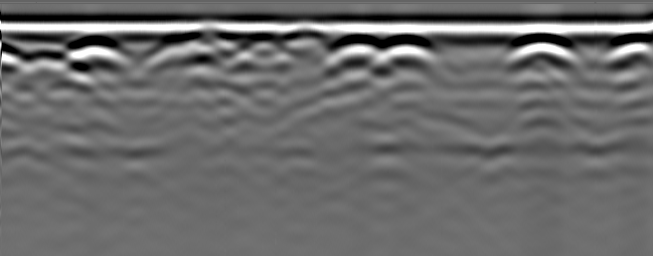pipe: (281, 22, 330, 44), (184, 25, 233, 45)
steel: (508, 37, 578, 68), (329, 37, 388, 69), (66, 39, 125, 70), (383, 36, 436, 69), (605, 35, 652, 68)
